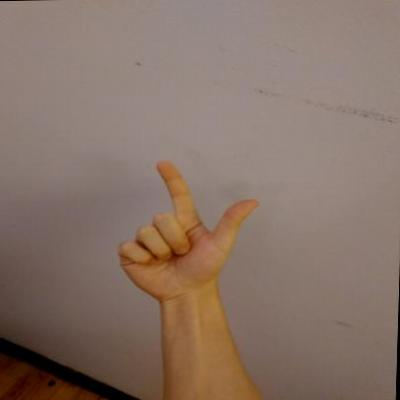hand: (112, 154, 269, 307)
